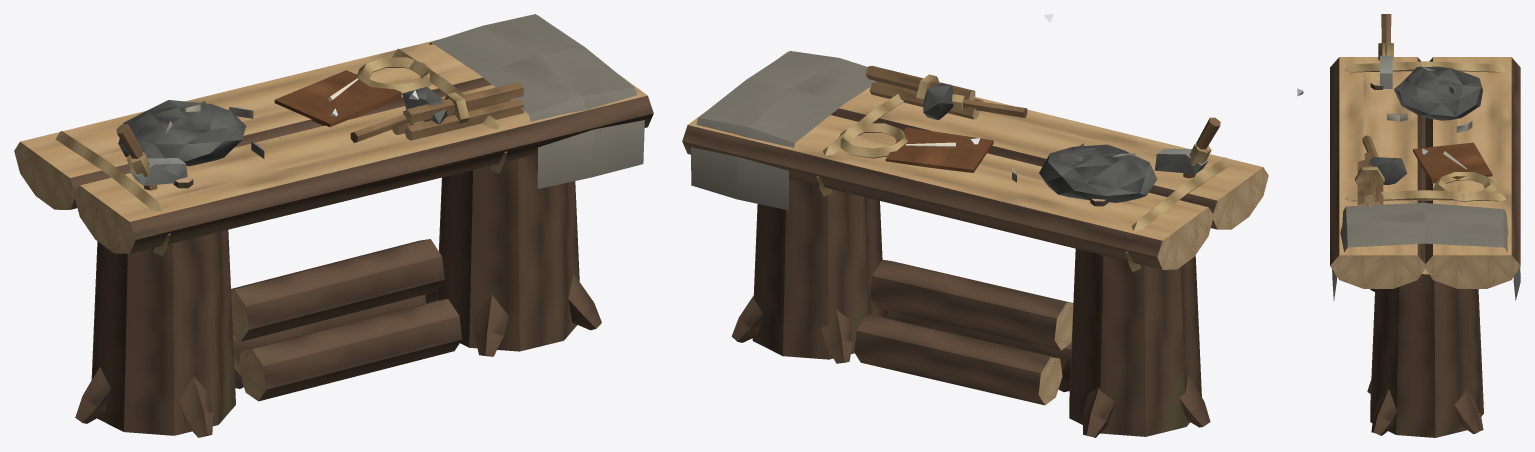
File: SM_Workbench_Level01.fbx
3 views of the same model, side by side, from view 1: azimuth 30°, elevation 25°; view 2: azimuth 150°, elevation 25°; view 3: azimuth 270°, elevation 25° (orthographic). The views are drawn at different scales.
Visible parts, largest first — view 1: SM_Workbench_Level01; view 2: SM_Workbench_Level01; view 3: SM_Workbench_Level01.
Boxes of the visible parts, left/top/right/bottom form: SM_Workbench_Level01: left=14, top=14, right=653, bottom=437; SM_Workbench_Level01: left=682, top=51, right=1268, bottom=437; SM_Workbench_Level01: left=1330, top=14, right=1520, bottom=437.
Bounding box in the file's own units: 6 × 3.64 × 2.86.
1 material, 1 textured.
